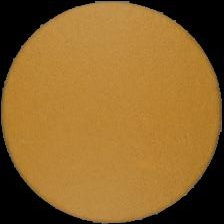53808-0387: (0, 0, 224, 224)
